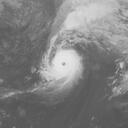cyclone: (37, 46, 84, 89)
